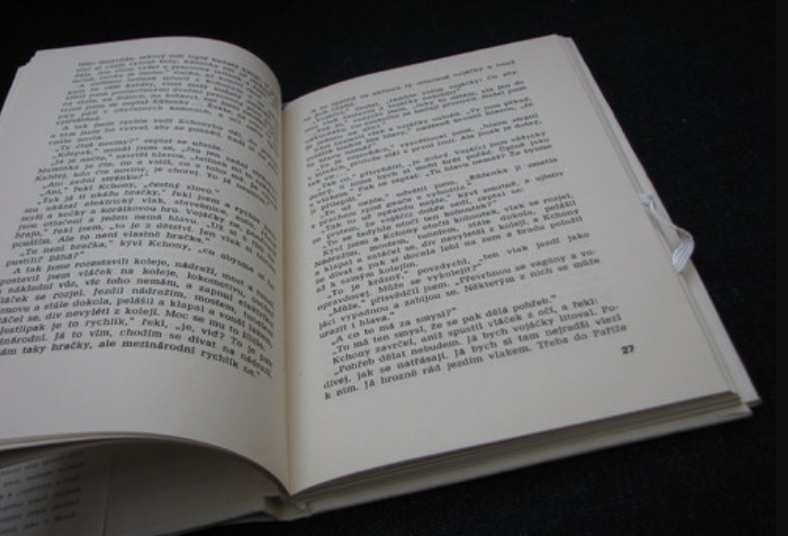book: (15, 30, 767, 525)
